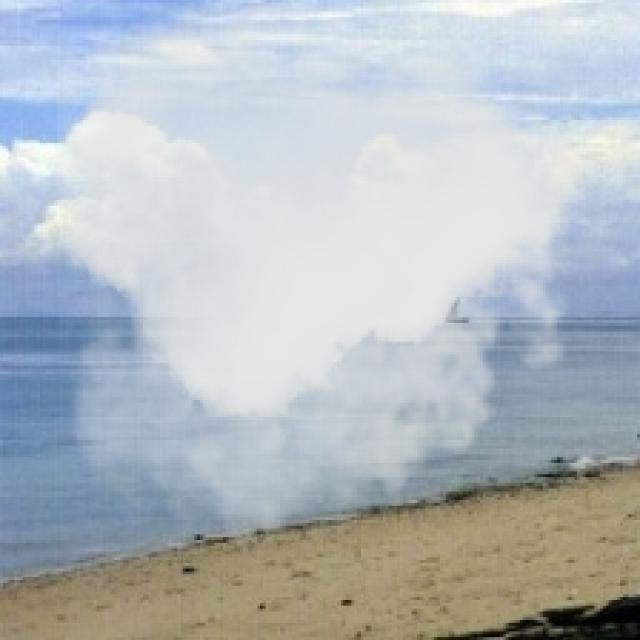smoke: (57, 3, 603, 563)
